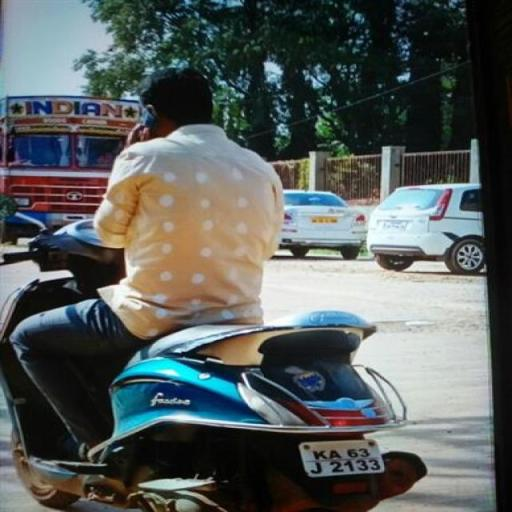numberplate: (298, 428, 390, 482)
using mobile: (126, 102, 166, 155)
